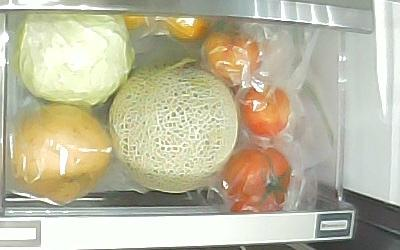cabbage: (13, 13, 135, 107)
melon: (108, 57, 239, 195)
pear_vinyl: (11, 103, 114, 206)
prune_vinyl: (203, 29, 261, 84), (240, 83, 291, 138)
tangerine_vinyl: (167, 18, 208, 41), (124, 15, 151, 30)
tomato_vinyl: (222, 146, 291, 213)
